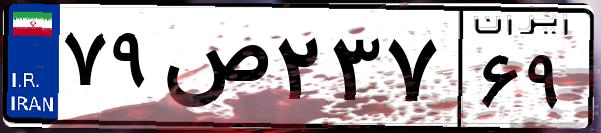2: (270, 28, 330, 110)
3: (330, 28, 385, 110)
6: (475, 38, 525, 113)
7: (385, 28, 445, 110), (57, 26, 110, 100)
9: (525, 38, 570, 115), (110, 28, 158, 98)
ص: (158, 20, 270, 120)
